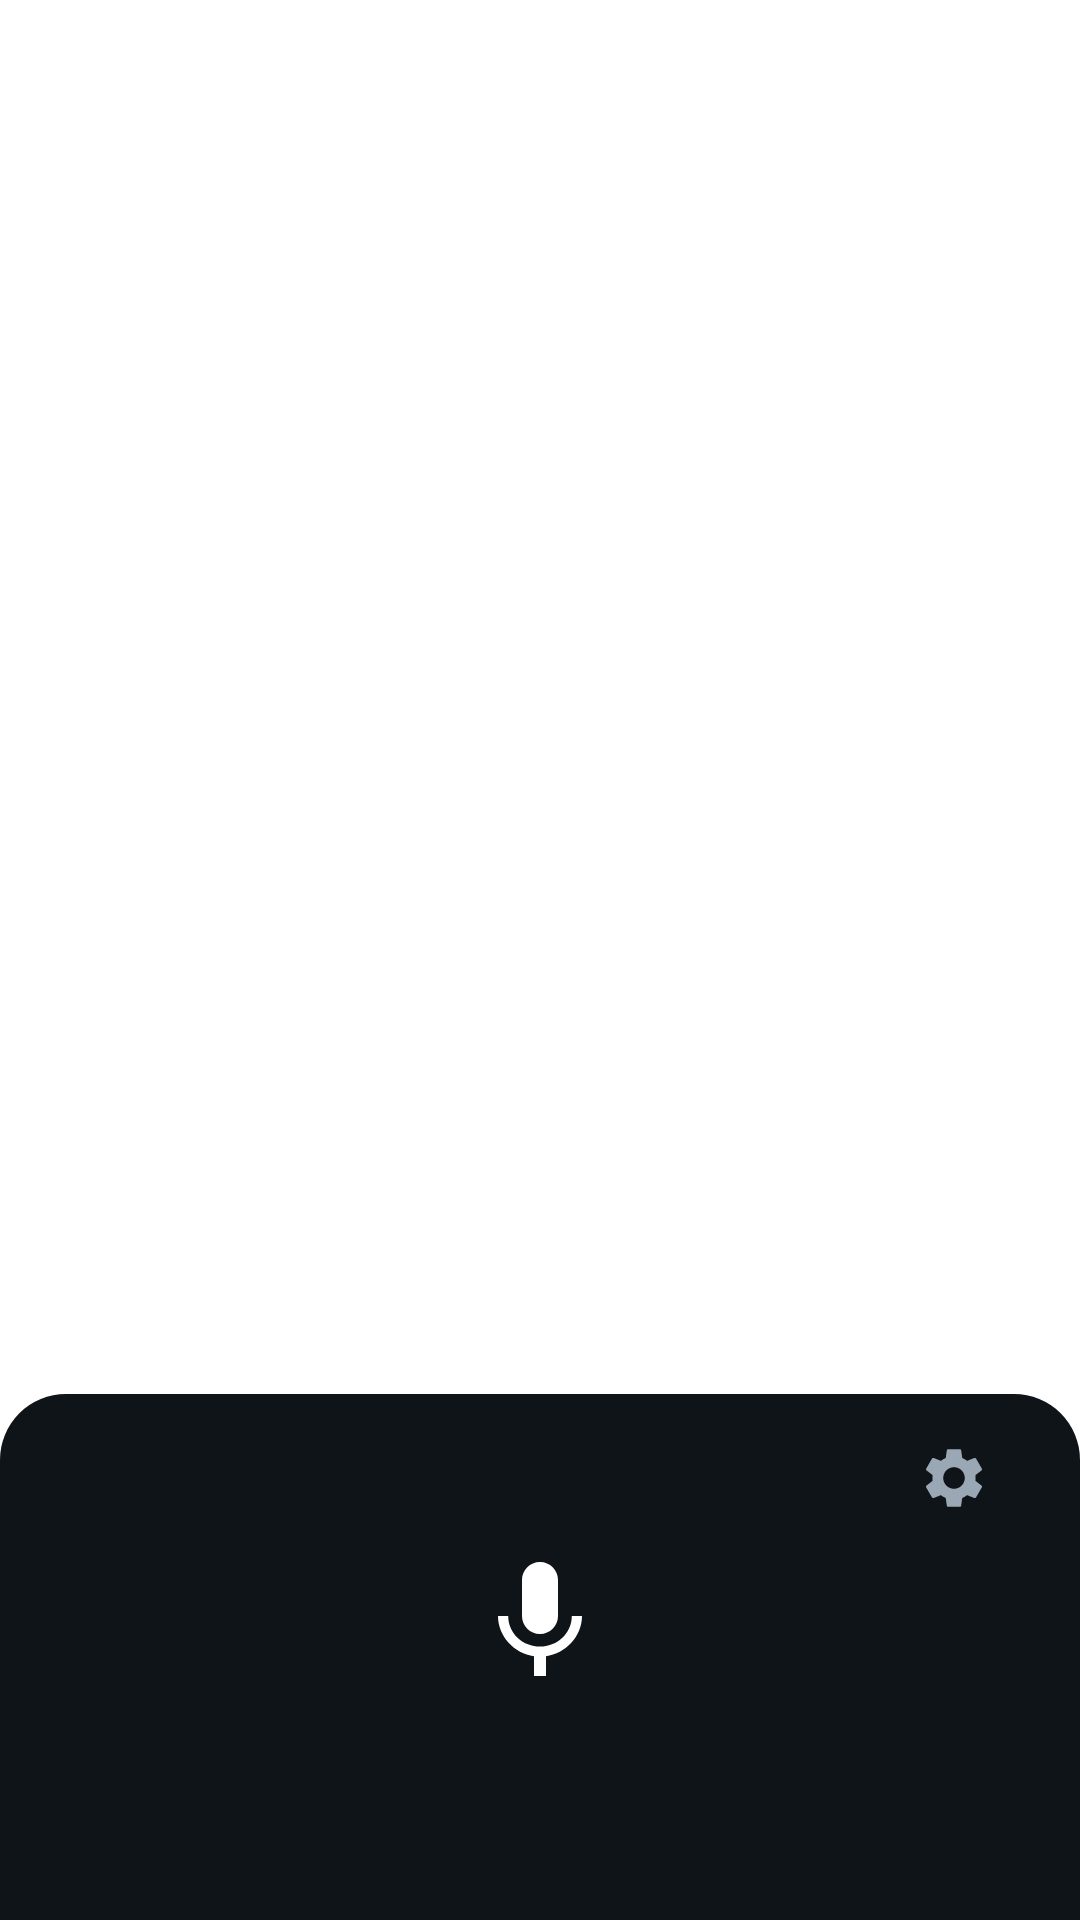

Named icons in this screenshot (1080×1920) and their centers, (x,y):
Microphone: (540,1619)
Settings: (954,1478)
